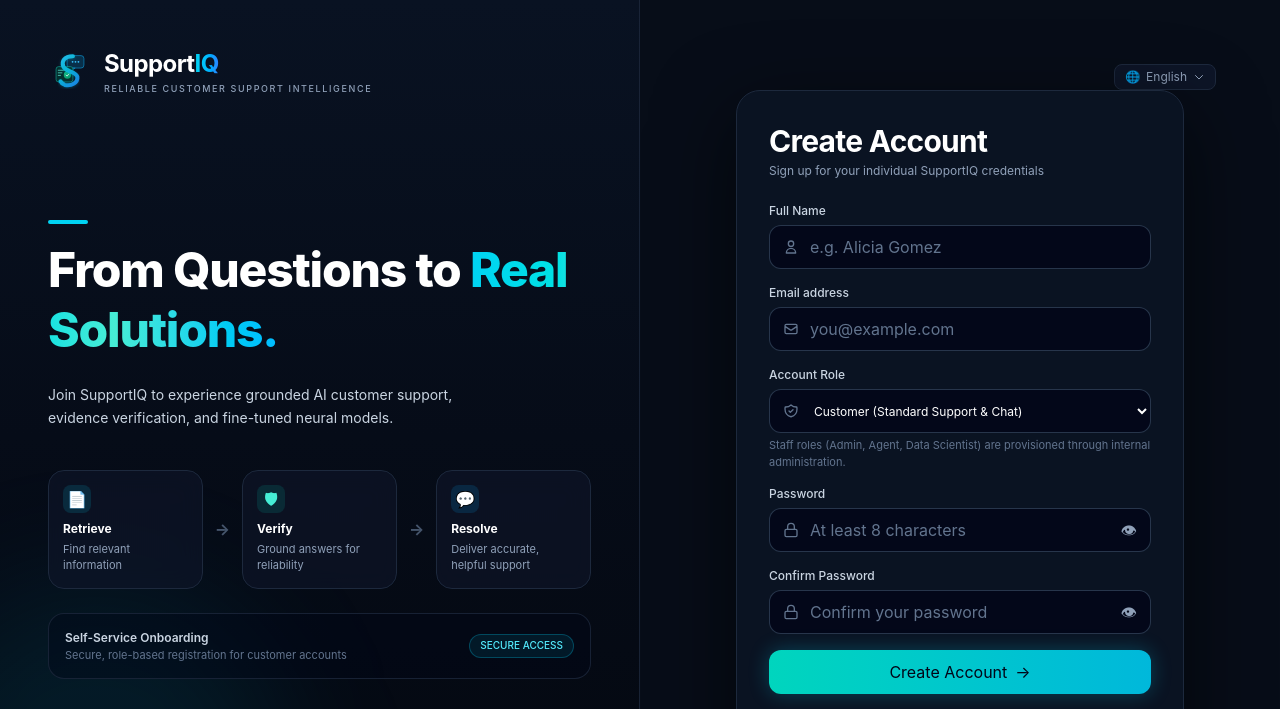
Test case: SupportIQ User Registration Workflow › shows error and blocks submission if password confirmation does not match
Type "Alice Smith" into the field with placeholder "e.g. Alicia Gomez".
click(960, 247); type("Alice Smith")  # box [769,225,1151,269]
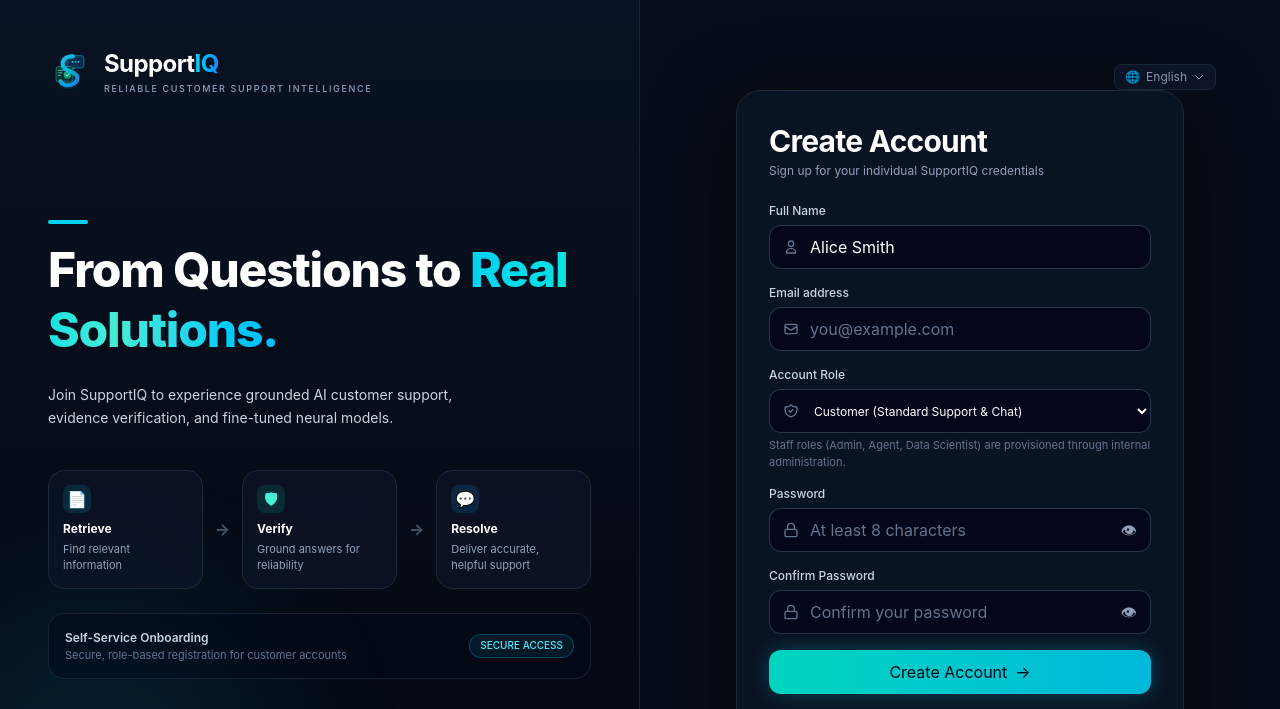
Type "alice@example.com" into the field with placeholder "you@example.com".
click(960, 329); type("alice@example.com")  # box [769,307,1151,351]
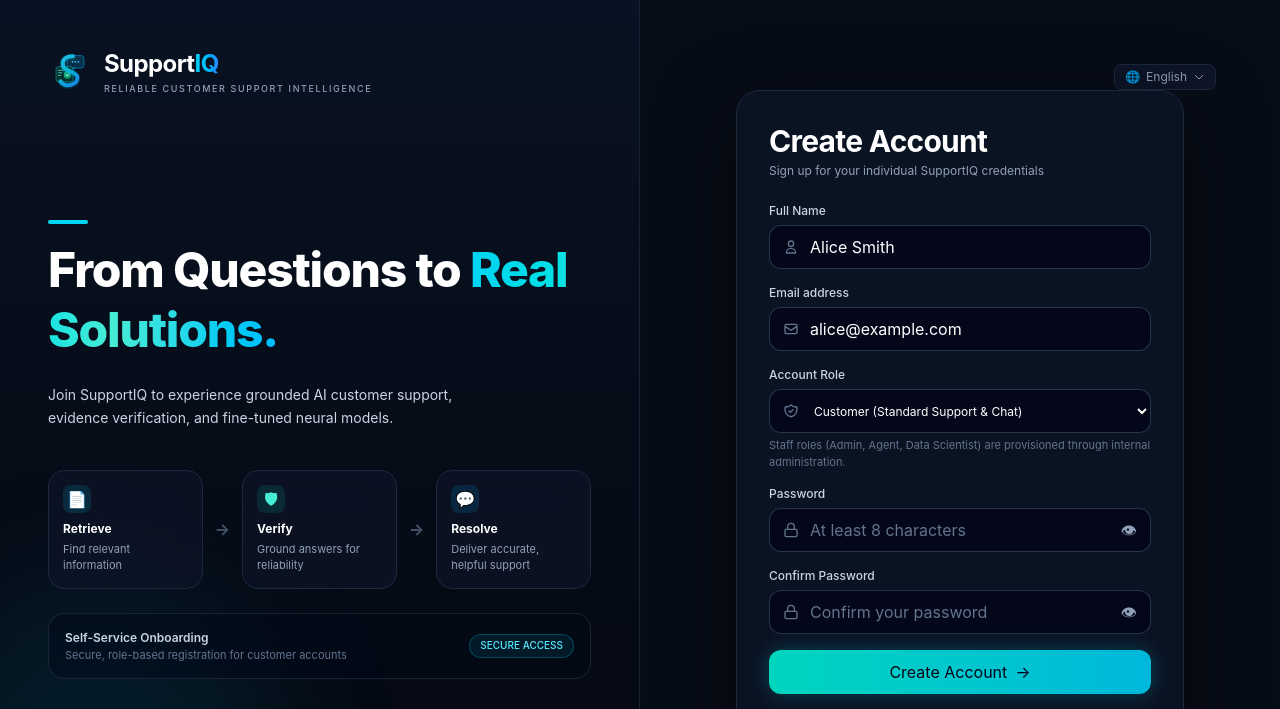
Type "Password123!" into the password field with placeholder "At least 8 characters".
click(960, 530); type("Password123!")  # box [769,508,1151,552]
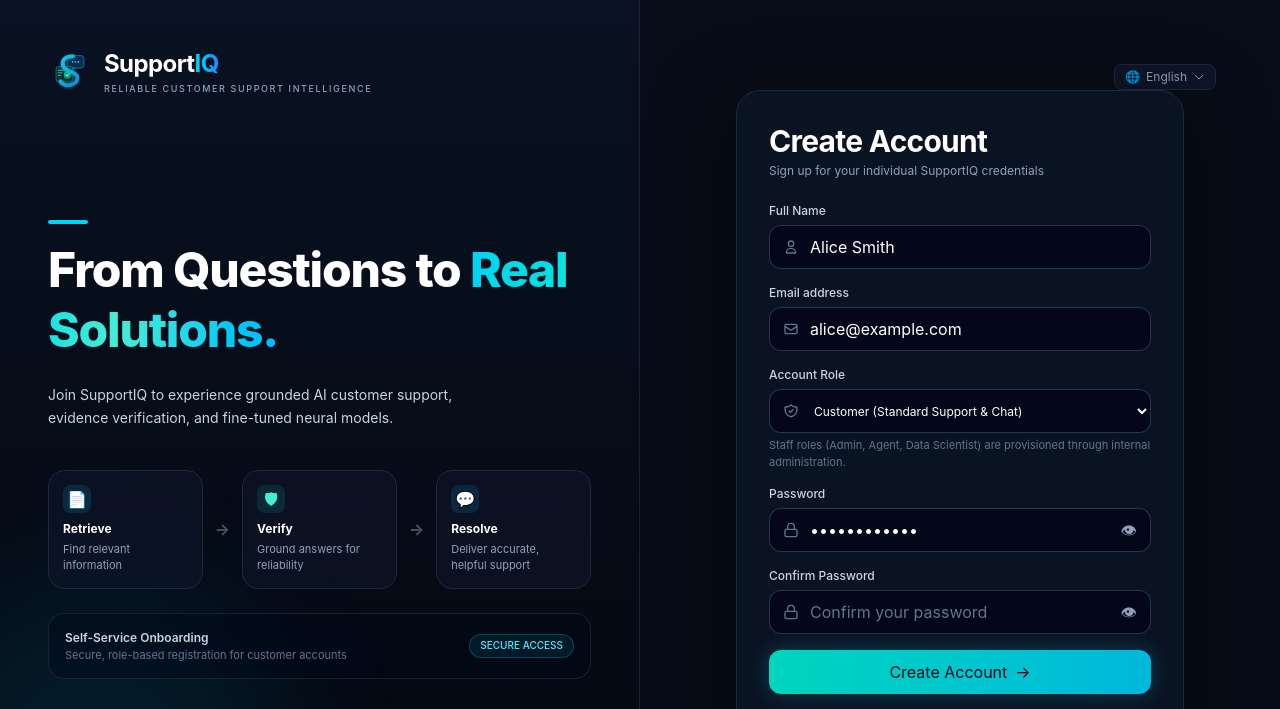
Type "DifferentPassword456!" into the password field with placeholder "Confirm your password".
click(960, 612); type("DifferentPassword456!")  # box [769,590,1151,634]
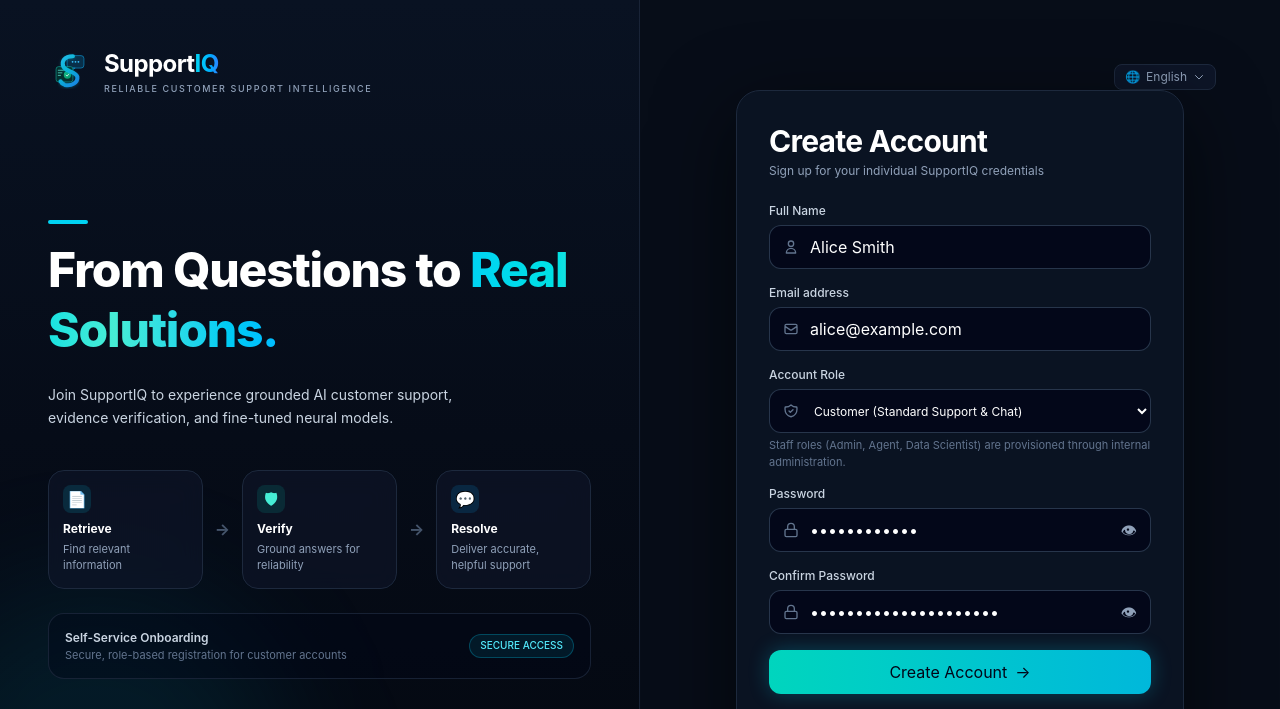
Click the button "Create Account →".
click(960, 672)  # box [769,650,1151,694]
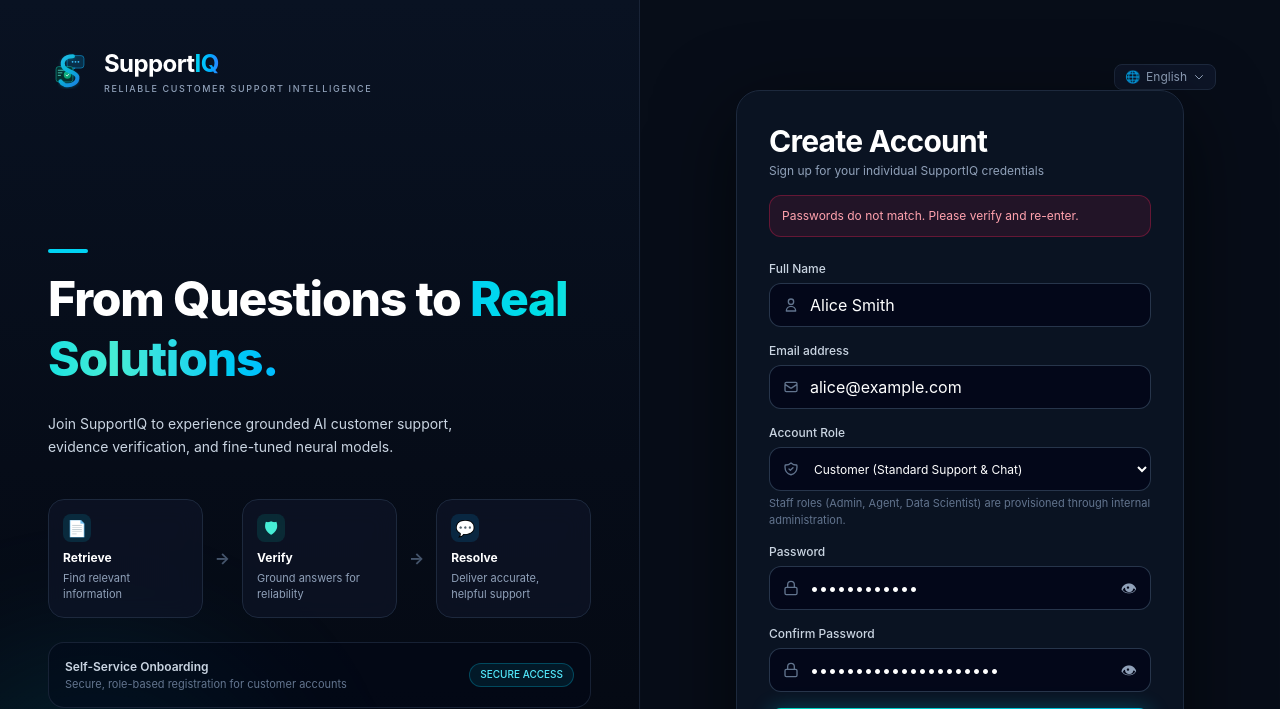
Check: the text "Passwords do not match. Please verify and re-enter." is shown, box [769,195,1151,237]
